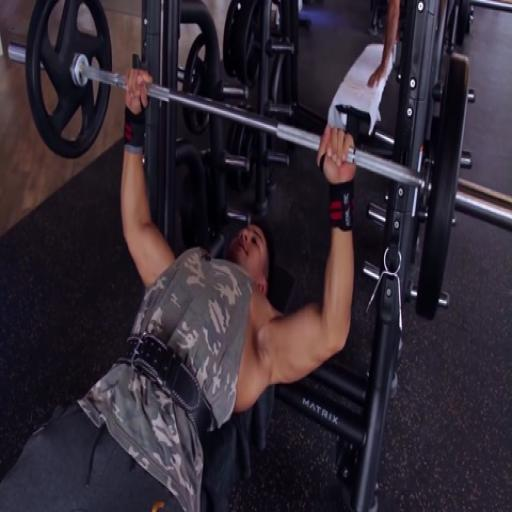exercise: (0, 64, 361, 511)
